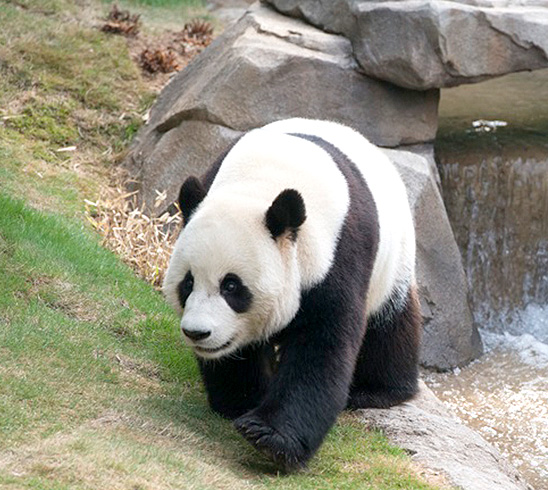panda: (164, 107, 443, 460)
